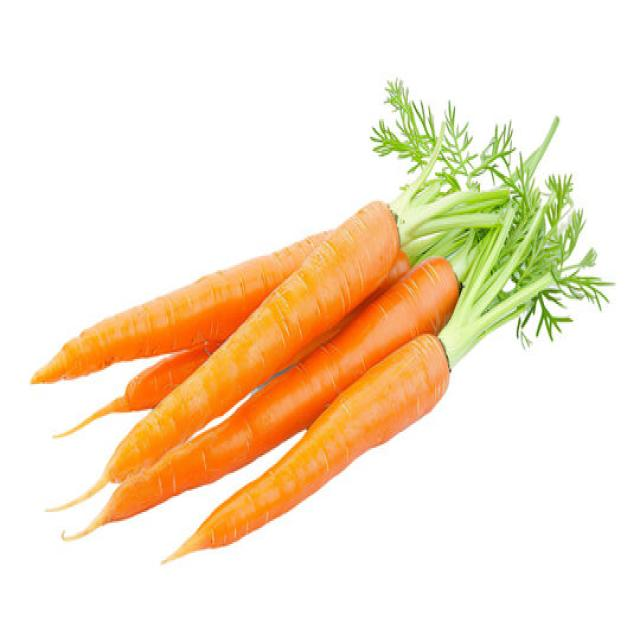Carrot: (47, 247, 460, 542), (159, 329, 451, 565), (28, 218, 339, 386), (51, 336, 218, 439)
